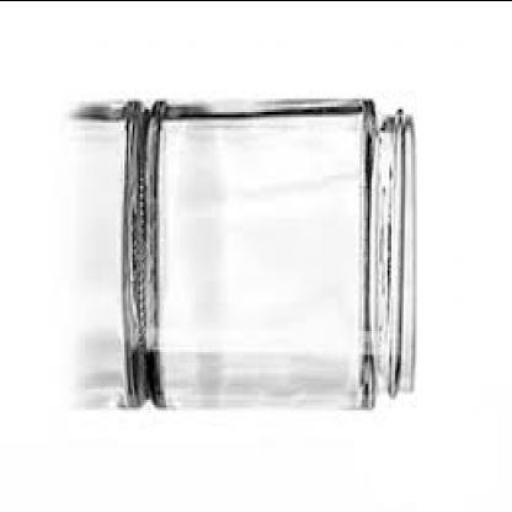glass: (142, 102, 418, 412)
